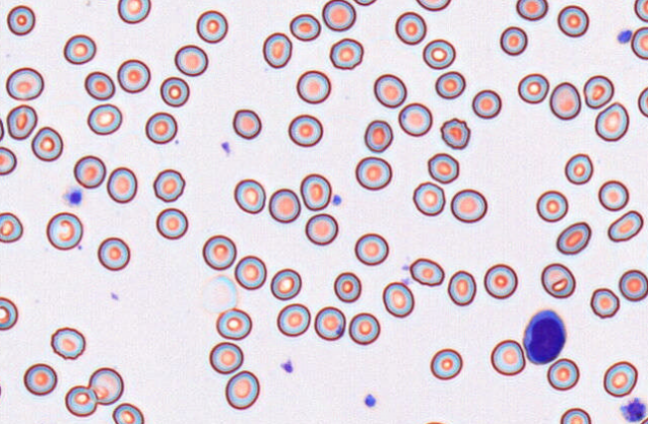LYM: (524, 309, 567, 365)
PLT: (621, 397, 648, 424), (64, 187, 84, 208), (617, 27, 633, 44), (363, 394, 379, 409), (331, 192, 345, 209)
RBC: (45, 211, 83, 250), (594, 101, 629, 141), (224, 370, 259, 410), (88, 367, 124, 405), (5, 66, 44, 100), (490, 339, 525, 376), (450, 188, 487, 223), (603, 360, 638, 397), (540, 262, 575, 298), (355, 156, 392, 190), (549, 81, 581, 120), (202, 234, 236, 270), (483, 263, 517, 299), (215, 307, 252, 340), (50, 326, 85, 360), (296, 69, 331, 103), (288, 113, 323, 147), (382, 281, 414, 318), (299, 173, 331, 210), (276, 303, 310, 337), (398, 102, 432, 136), (208, 341, 243, 374), (412, 181, 445, 216), (373, 73, 406, 108), (354, 232, 389, 265), (97, 236, 130, 271), (117, 58, 150, 93), (556, 221, 591, 254), (233, 178, 265, 214), (106, 166, 137, 203), (546, 357, 579, 391), (23, 363, 57, 396), (268, 188, 300, 223), (234, 255, 266, 290), (31, 126, 63, 161), (87, 103, 122, 135), (6, 104, 37, 140), (73, 155, 106, 188), (153, 168, 185, 202), (304, 213, 338, 245), (174, 44, 208, 76), (329, 37, 363, 69), (196, 9, 228, 43), (321, 0, 356, 31), (583, 74, 614, 109), (262, 32, 292, 68), (64, 385, 97, 417), (348, 312, 380, 345), (536, 189, 568, 222), (145, 111, 177, 144), (155, 207, 188, 239), (429, 348, 462, 380), (557, 4, 589, 37), (314, 306, 345, 340), (395, 11, 426, 45), (447, 270, 476, 306), (427, 152, 459, 184), (422, 38, 455, 69), (409, 257, 444, 286), (439, 117, 470, 149), (517, 73, 549, 104), (270, 268, 301, 300), (598, 179, 629, 211), (363, 119, 393, 152), (63, 34, 96, 64), (618, 269, 648, 301), (590, 287, 620, 318), (159, 76, 189, 107), (471, 89, 501, 119), (434, 70, 465, 99), (84, 71, 115, 100), (232, 108, 261, 139), (564, 153, 593, 184), (289, 13, 321, 41), (6, 5, 35, 35), (333, 271, 361, 302), (499, 25, 527, 55), (117, 0, 151, 23), (0, 211, 23, 243), (112, 402, 144, 424), (515, 0, 548, 20), (0, 296, 18, 330), (630, 26, 647, 60), (559, 407, 591, 424), (0, 146, 16, 175), (415, 0, 451, 11), (637, 86, 648, 117), (634, 0, 648, 22), (353, 0, 377, 6), (419, 420, 451, 424), (0, 114, 4, 142), (0, 376, 3, 408)
Schistocyte: (605, 207, 644, 244)
